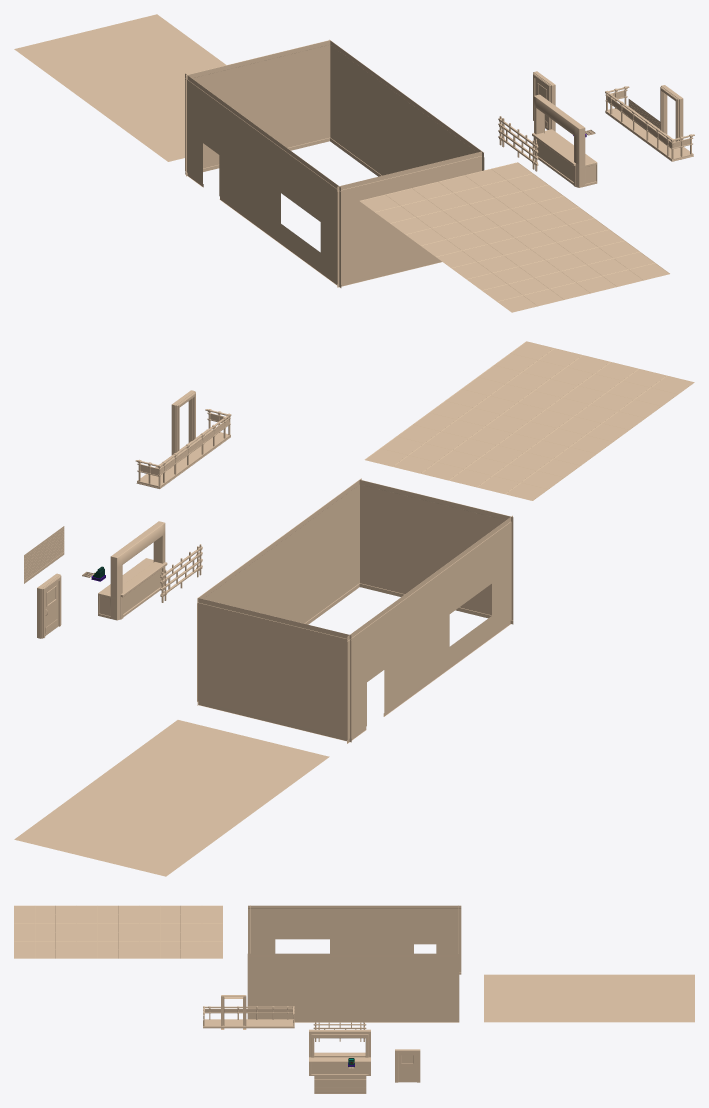
File: Casino_cage.fbx
The picture shows the model from 3 angles, top to bottom: view 1: azimuth 30°, elevation 25°; view 2: azimuth 150°, elevation 25°; view 3: azimuth 270°, elevation 25°; orthographic projection. The views are drawn at different scales.
Parts seen in each view (by area): view 1: Floor, CageWall3, CageWall5, CageWall4, CageWall, CounterFront, BalconyCombined, Ceiling43, Ceiling44, Ceiling47, Ceiling39, Ceiling40 (+12 smaller); view 2: Floor, CageWall4, CageWall3, CageWall5, CageWall, CounterFront, BalconyCombined, Ceiling37, Ceiling41, Ceiling38, Ceiling44, Ceiling45 (+12 smaller); view 3: CageWall5, Floor, CageWall3, CounterFront, BalconyCombined, Shutters, Ceiling37, Ceiling36, Ceiling38, Ceiling35, Ceiling34, Ceiling41 (+12 smaller).
Part boxes in pixels (x1,y1,x2,y2): Floor: [14, 14, 226, 161]; CageWall3: [185, 73, 341, 288]; CageWall5: [329, 39, 484, 176]; CageWall4: [185, 40, 330, 176]; CageWall: [337, 151, 481, 287]; CounterFront: [532, 94, 597, 187]; BalconyCombined: [605, 85, 694, 161]; Ceiling43: [534, 264, 617, 299]; Ceiling44: [465, 162, 547, 197]; Ceiling47: [557, 229, 639, 264]; Ceiling39: [412, 175, 495, 210]; Ceiling40: [443, 197, 525, 232]; Floor: [14, 720, 329, 876]; CageWall4: [197, 598, 351, 742]; CageWall3: [347, 515, 512, 743]; CageWall5: [197, 478, 361, 705]; CageWall: [359, 479, 513, 624]; CounterFront: [98, 521, 167, 620]; BalconyCombined: [135, 390, 231, 488]; Ceiling37: [574, 392, 662, 429]; Ceiling41: [485, 402, 573, 439]; Ceiling38: [606, 369, 694, 405]; Ceiling44: [364, 436, 452, 473]; Ceiling45: [397, 412, 484, 449]; CageWall5: [247, 953, 459, 1022]; Floor: [484, 974, 694, 1022]; CageWall3: [248, 905, 461, 974]; CounterFront: [309, 1029, 370, 1075]; BalconyCombined: [203, 995, 294, 1029]; Shutters: [314, 1075, 366, 1093]; Ceiling37: [55, 905, 97, 923]; Ceiling36: [97, 905, 139, 923]; Ceiling38: [14, 905, 55, 923]; Ceiling35: [139, 905, 180, 923]; Ceiling34: [181, 905, 222, 923]; Ceiling41: [97, 923, 139, 940].
Bounding box in the file's own units: 17.77 × 5.73 × 40.75.
